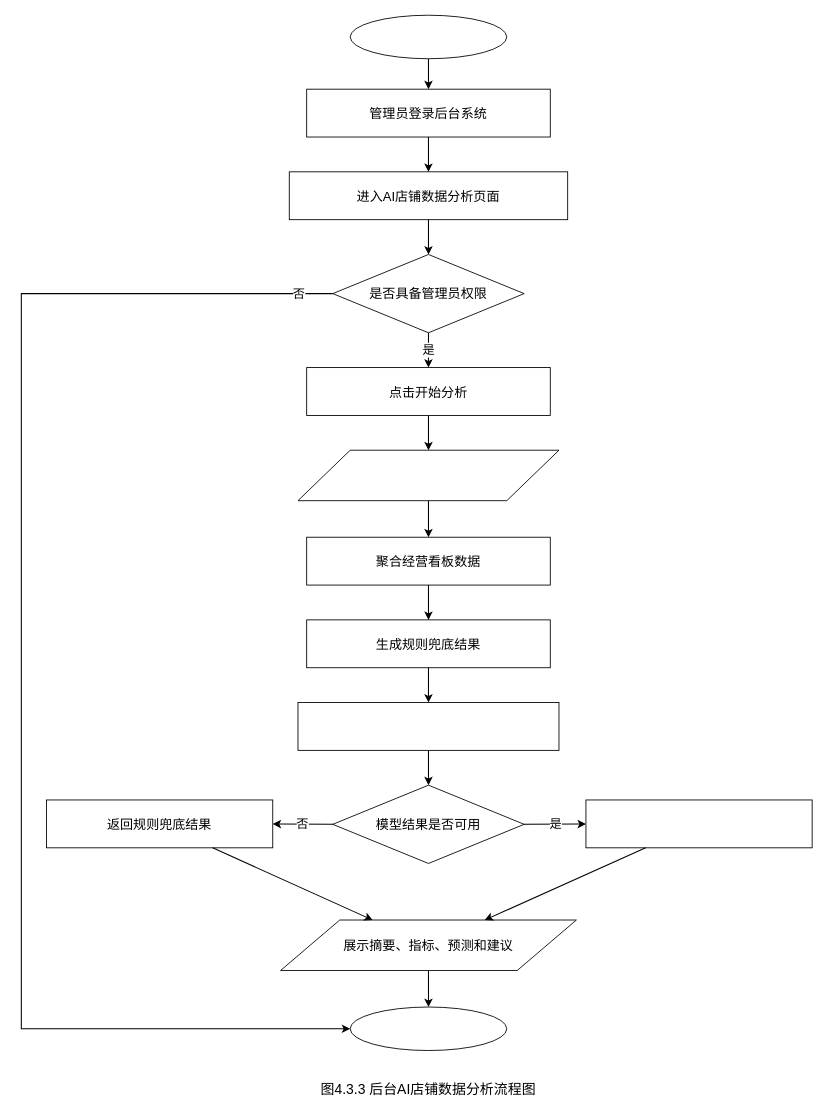
The diagram is 828 pixels wide and 1118 high, and some of its shapes have lost their labels. The centre of each missing label's shape, as x and y in pixels:
"开始" belongs at pixel 428 36.
"结束" belongs at pixel 428 1028.
"请求AI分析接口" belongs at pixel 428 475.
"调用AI模型并解析JSON" belongs at pixel 428 726.
"返回AI模型分析结果" belongs at pixel 698 823.
